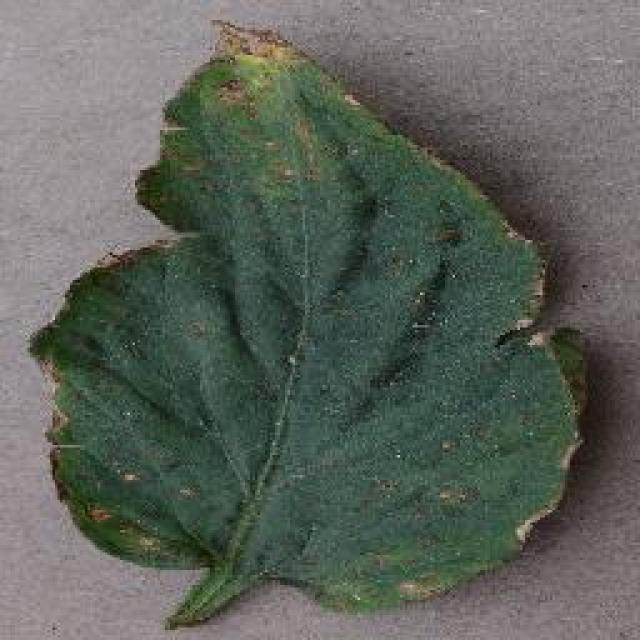Tomato___Bacterial_spot: (25, 18, 593, 623)
